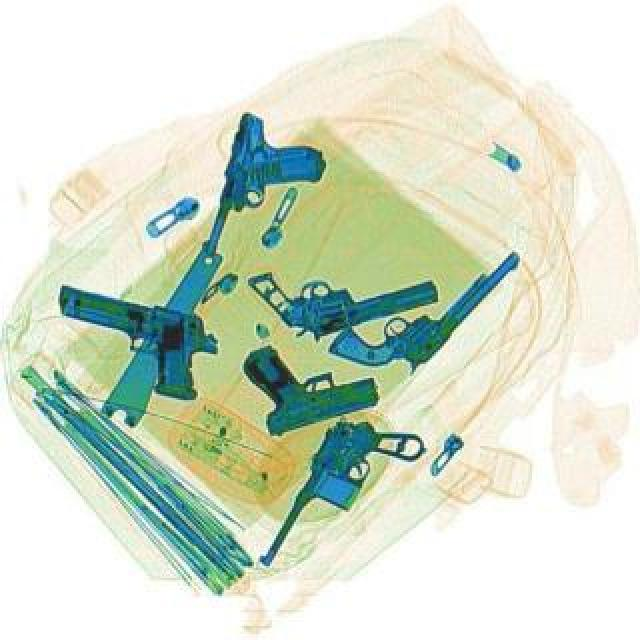gun: (322, 202, 522, 402), (254, 400, 430, 600), (246, 228, 442, 350), (196, 106, 336, 276), (38, 280, 226, 404), (234, 318, 382, 438)
